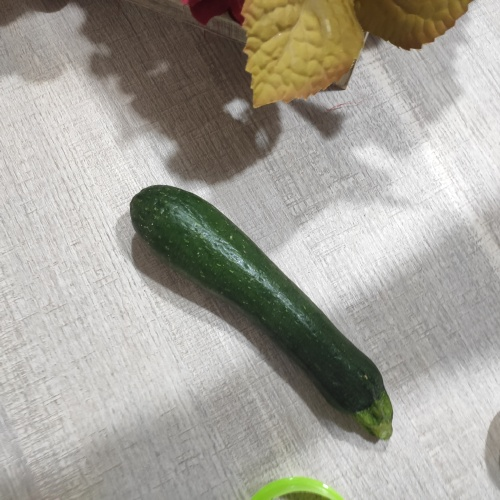zucchine: (128, 185, 405, 446)
